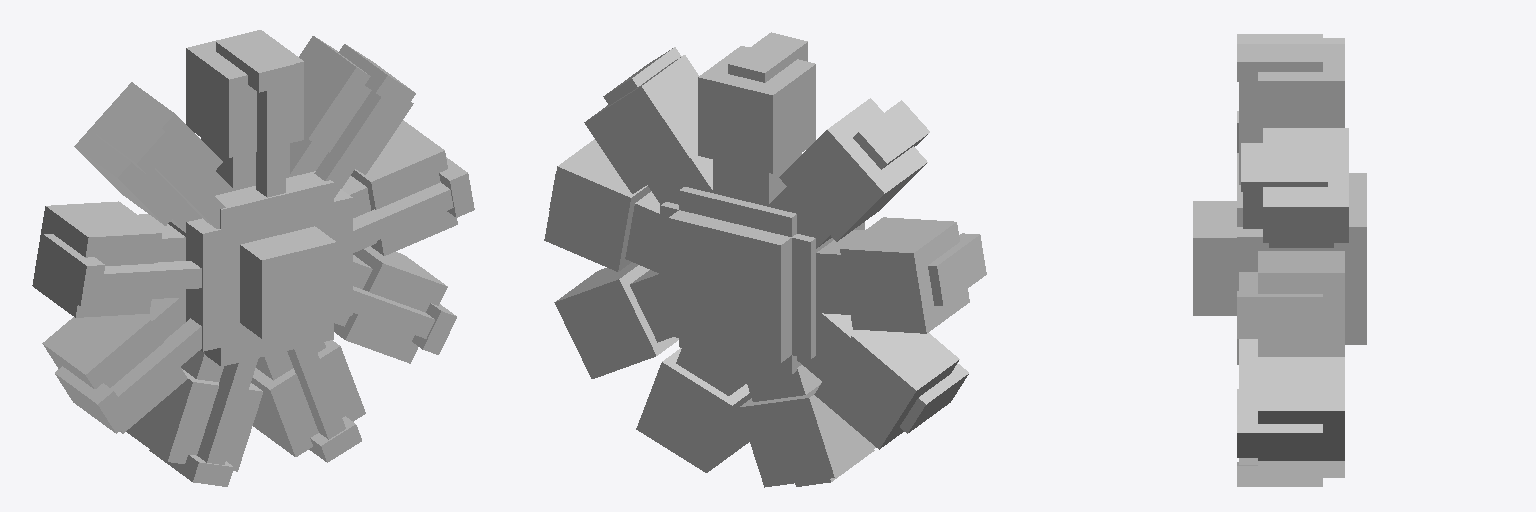
Rendered from enginebristolmercury.obj.
3 renders of one model, left to right at view 1: azimuth 30°, elevation 25°; view 2: azimuth 150°, elevation 25°; view 3: azimuth 270°, elevation 25°, orthographic.
Visible parts, largest first — view 1: bodyModel; view 2: bodyModel; view 3: bodyModel.
Part boxes in pixels (x1,y1,x2,y2): bodyModel: (32,30,474,486); bodyModel: (544,32,986,487); bodyModel: (1193,34,1366,486).
Bounding box in the file's own units: 1.31 × 1.29 × 0.5.